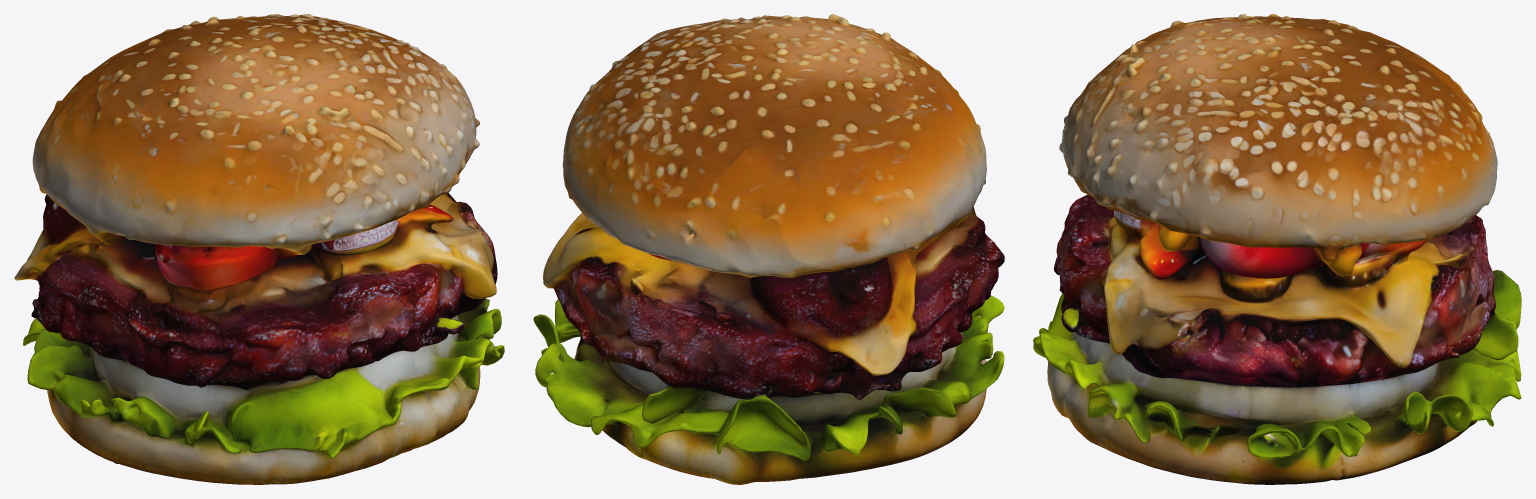
The model's file is burger glb (1).glb.
3 renders of one model, left to right at view 1: azimuth 30°, elevation 25°; view 2: azimuth 150°, elevation 25°; view 3: azimuth 270°, elevation 25°, orthographic. The views are drawn at different scales.
Visible parts, largest first — view 1: vrin_node_b04f88f1-d516-4379-89d7-1a1fe27eb6f4; view 2: vrin_node_b04f88f1-d516-4379-89d7-1a1fe27eb6f4; view 3: vrin_node_b04f88f1-d516-4379-89d7-1a1fe27eb6f4.
Part boxes in pixels (x1,y1,x2,y2): vrin_node_b04f88f1-d516-4379-89d7-1a1fe27eb6f4: (14, 14, 504, 484); vrin_node_b04f88f1-d516-4379-89d7-1a1fe27eb6f4: (533, 14, 1004, 484); vrin_node_b04f88f1-d516-4379-89d7-1a1fe27eb6f4: (1033, 14, 1521, 484).
Size of the model in its own units: 0.994 by 0.8196 by 1.
Materials: 1 (1 with a texture image).
